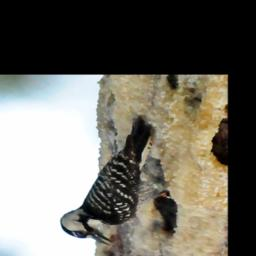Woodpecker: (58, 115, 170, 246)
